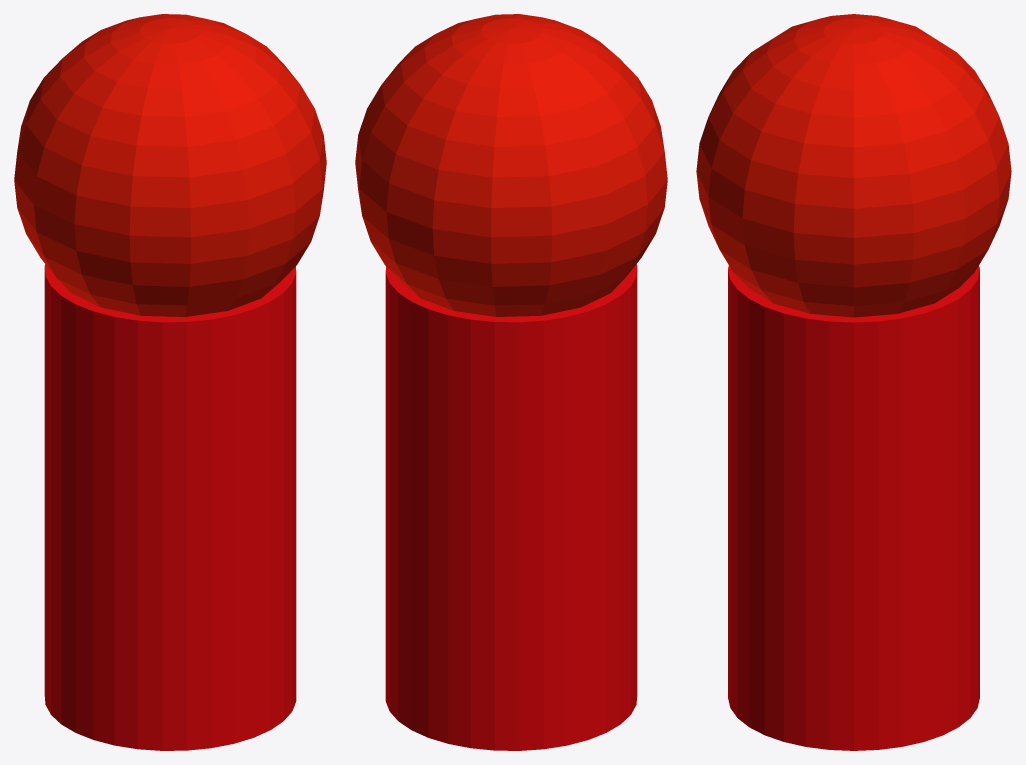
File: Player.fbx
The picture shows the model from 3 angles, left to right: view 1: azimuth 30°, elevation 25°; view 2: azimuth 150°, elevation 25°; view 3: azimuth 270°, elevation 25°; orthographic projection.
Parts seen in each view (by area): view 1: Cylinder.001, Sphere.001; view 2: Cylinder.001, Sphere.001; view 3: Cylinder.001, Sphere.001.
Boxes of the visible parts, box(x1,y1,x2,y2) form: Cylinder.001: box(44, 264, 296, 750); Sphere.001: box(14, 14, 326, 316); Cylinder.001: box(385, 264, 637, 750); Sphere.001: box(355, 14, 667, 316); Cylinder.001: box(728, 265, 979, 750); Sphere.001: box(696, 14, 1011, 317).
Size of the model in its own units: 2 by 4.69 by 2.
